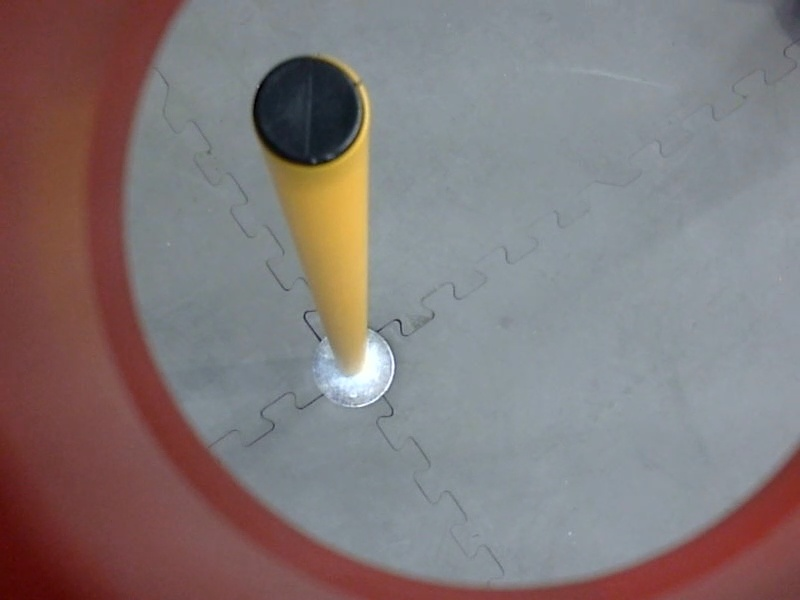tip: (241, 46, 374, 177)
